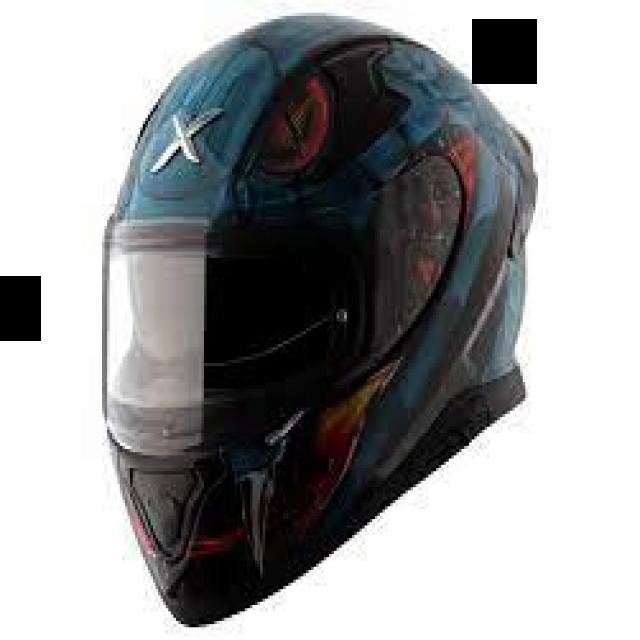Helmet: (103, 19, 537, 624)
